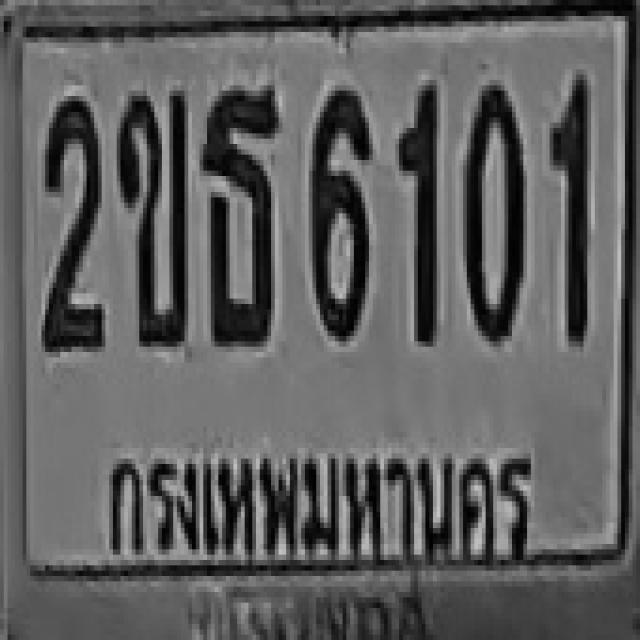0: (462, 80, 522, 341)
1: (395, 83, 437, 344), (546, 75, 587, 341)
11KhorKhai: (115, 88, 186, 344)
2: (42, 93, 102, 350)
33ThorThong: (201, 83, 277, 344)
6: (309, 85, 369, 336)
Bangkok: (96, 428, 542, 569)
